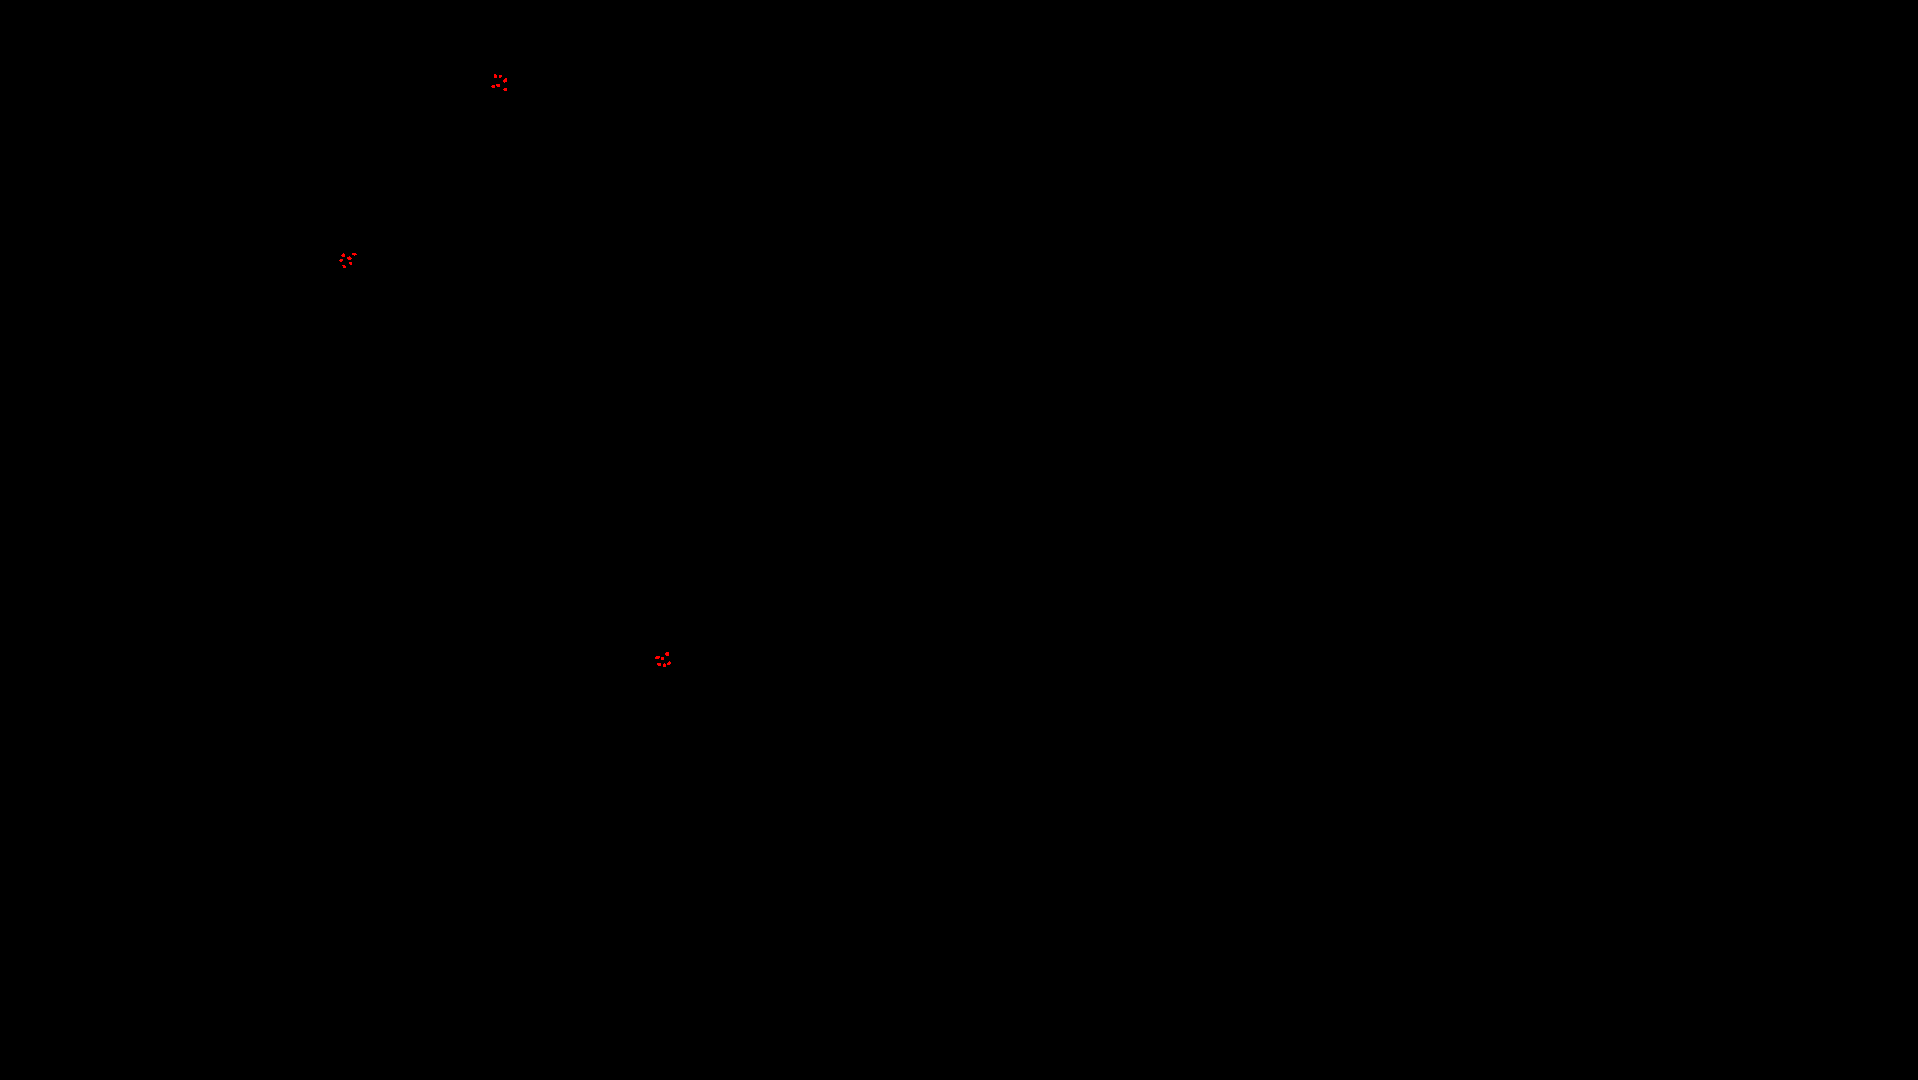Target: (503, 78, 507, 83), (346, 256, 352, 259), (341, 253, 345, 257), (665, 652, 669, 656), (667, 661, 671, 665), (657, 662, 661, 666), (663, 662, 667, 666), (352, 253, 357, 256), (655, 656, 660, 659), (494, 74, 497, 78), (497, 84, 501, 87), (491, 86, 495, 88), (503, 88, 507, 91), (339, 259, 342, 262), (342, 265, 346, 267), (499, 75, 502, 78), (349, 262, 352, 265), (661, 657, 664, 660)
